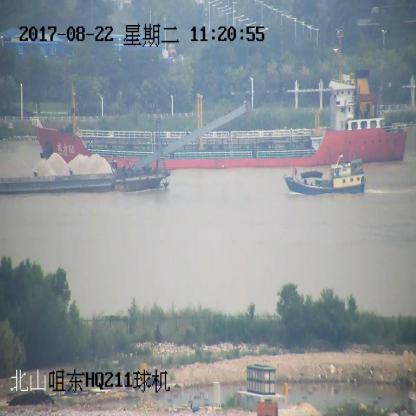Fishing Boat: (284, 154, 366, 196)
